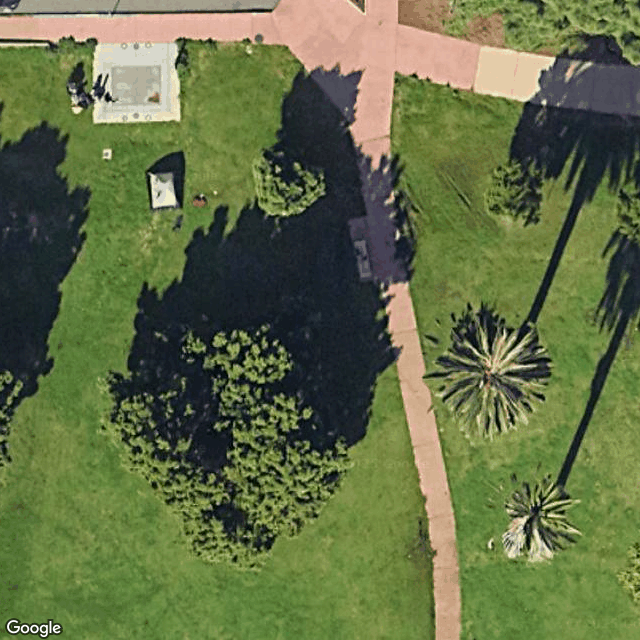palm: (417, 297, 556, 441), (479, 460, 590, 578)
